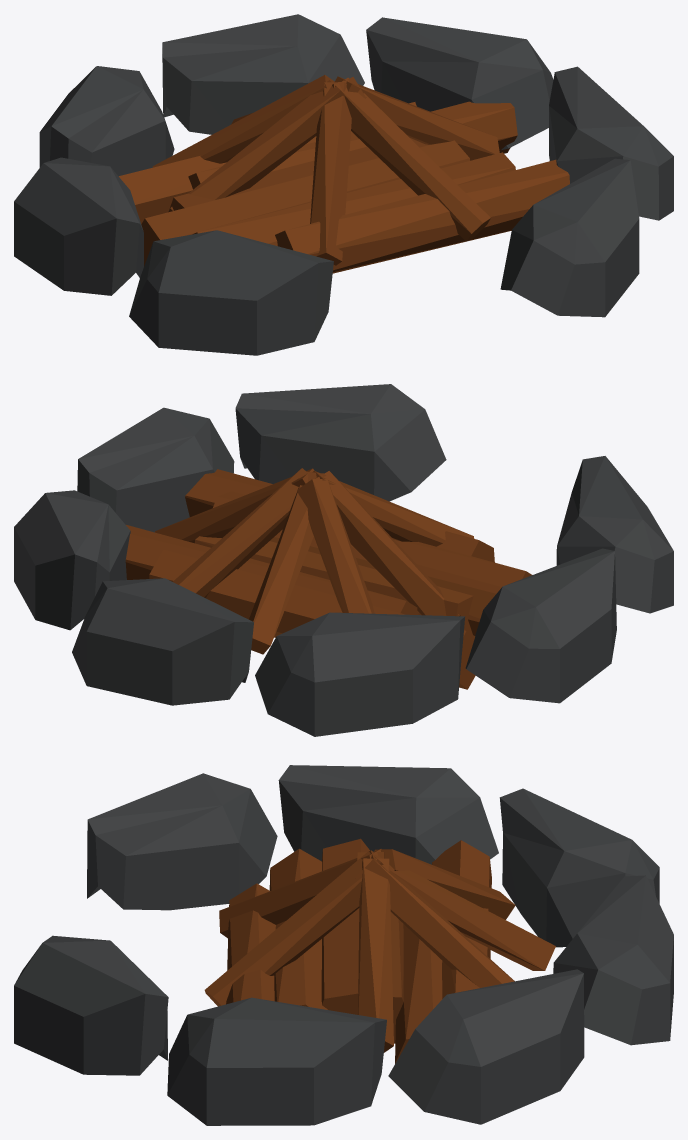
The model's file is BonFireStones.glb.
3 views of the same model, one above another, from view 1: azimuth 30°, elevation 25°; view 2: azimuth 150°, elevation 25°; view 3: azimuth 270°, elevation 25° (orthographic). The views are drawn at different scales.
Parts seen in each view (by area): view 1: Firewood; view 2: Firewood; view 3: Firewood.
Boxes of the visible parts, left/top/right/bottom form: Firewood: left=14, top=14, right=673, bottom=355; Firewood: left=14, top=384, right=673, bottom=736; Firewood: left=14, top=765, right=673, bottom=1125.
Size of the model in its own units: 9.72 by 2.38 by 9.63.
